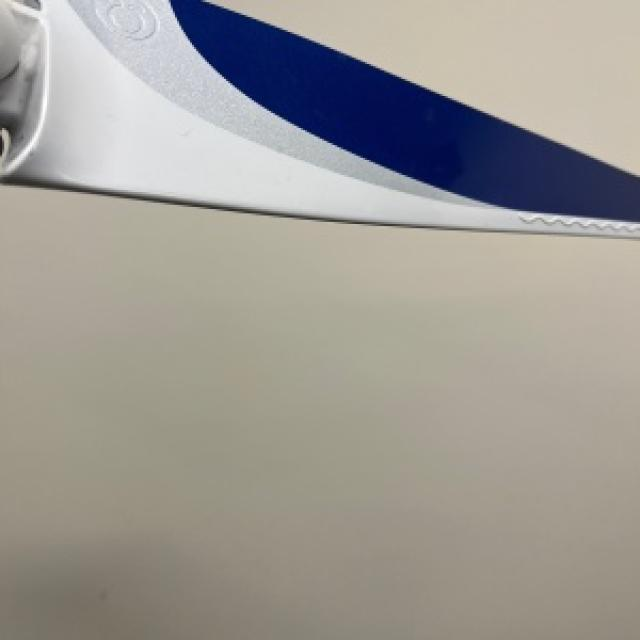healthy: (0, 0, 638, 235)
